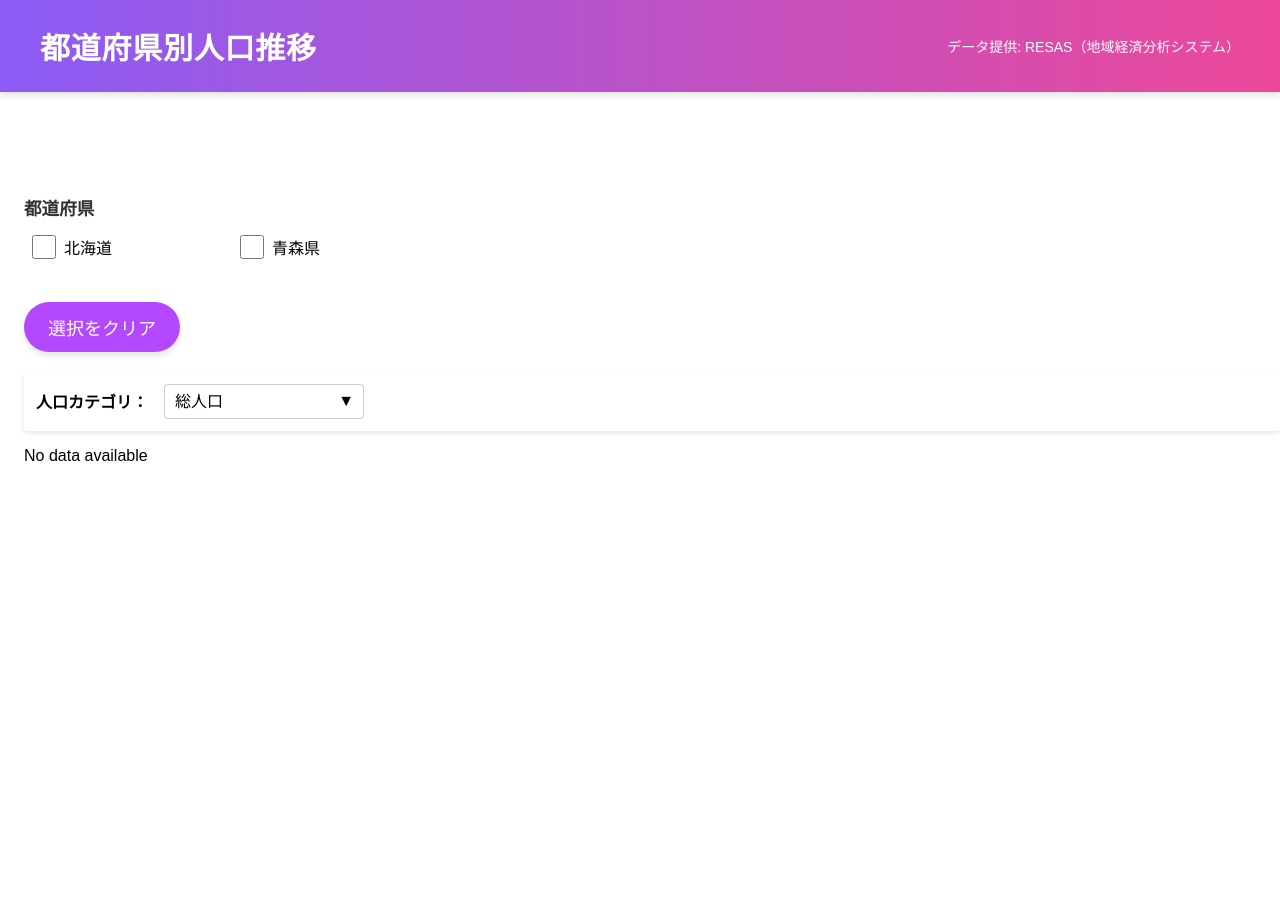
Population Data Flow › clears graph when "選択をクリア" button is clicked
Check: the text "北海道" is shown, box [64, 235, 112, 259]
Click the checkbox labelled "北海道" at coordinates (44, 247), box [32, 235, 56, 259]
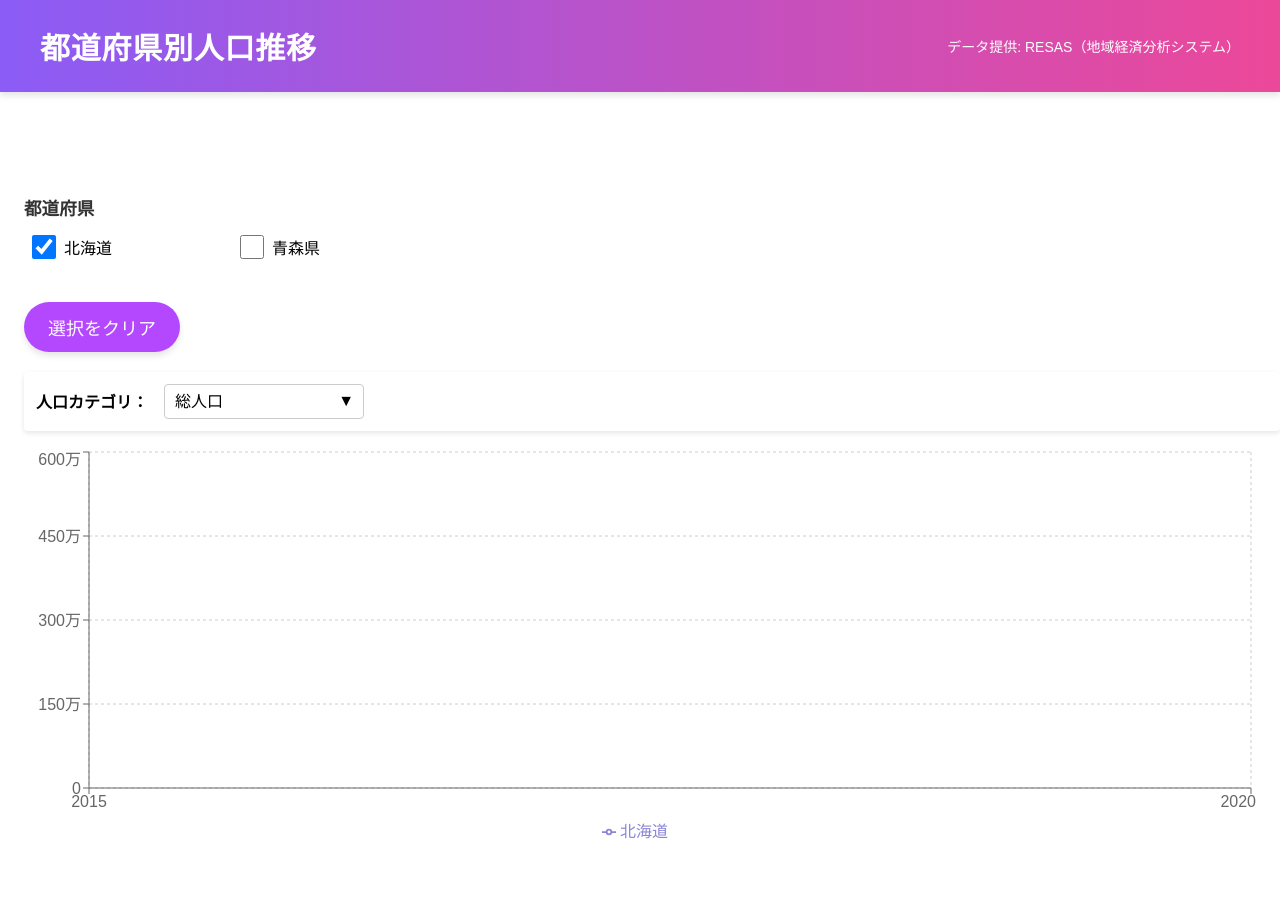
Check: the element with class "recharts-responsive-container" is shown, box [24, 447, 1256, 847]
Click the button "選択をクリア" at coordinates (102, 327), box [24, 302, 180, 352]
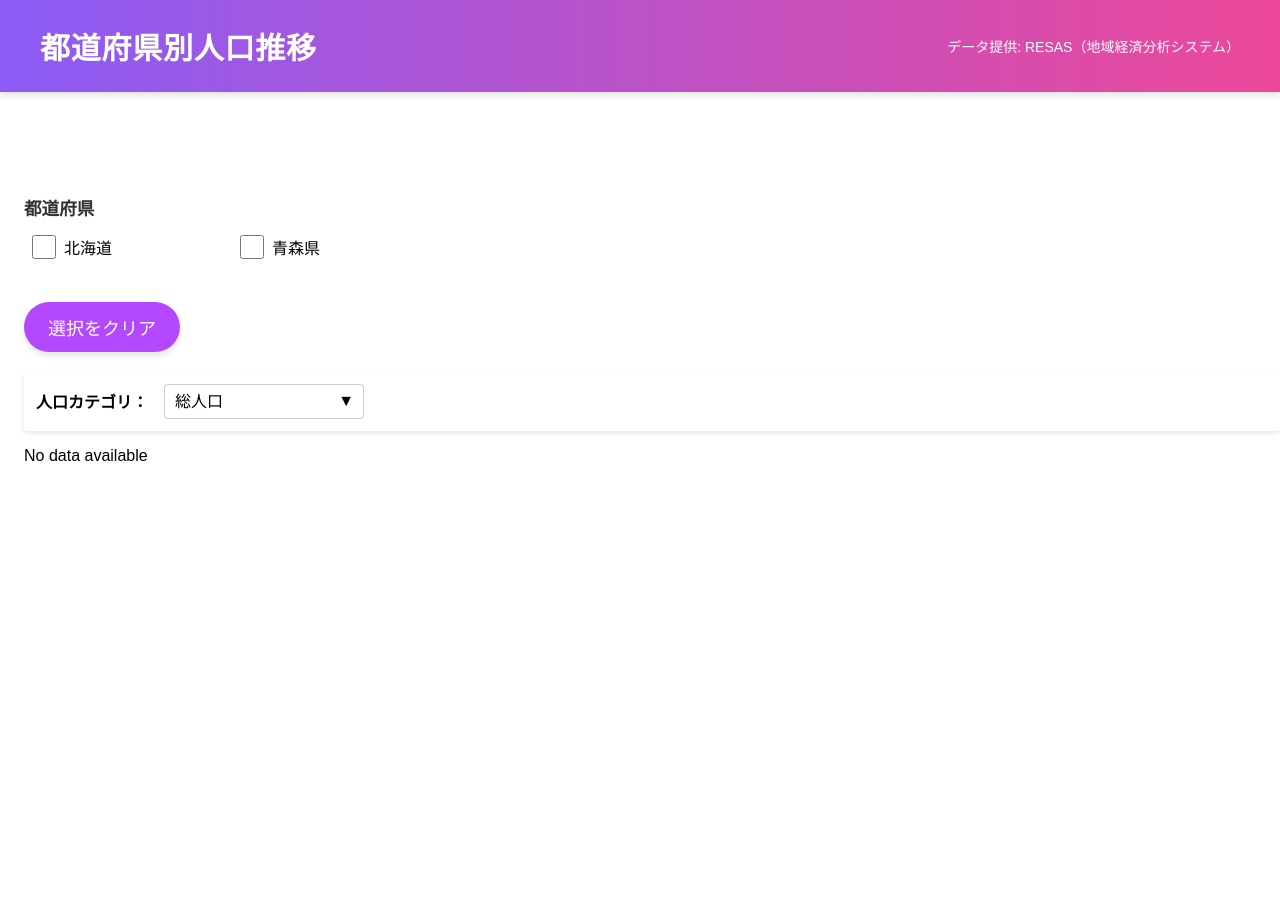
Check: the text "No data available" is shown, box [24, 447, 148, 464]
